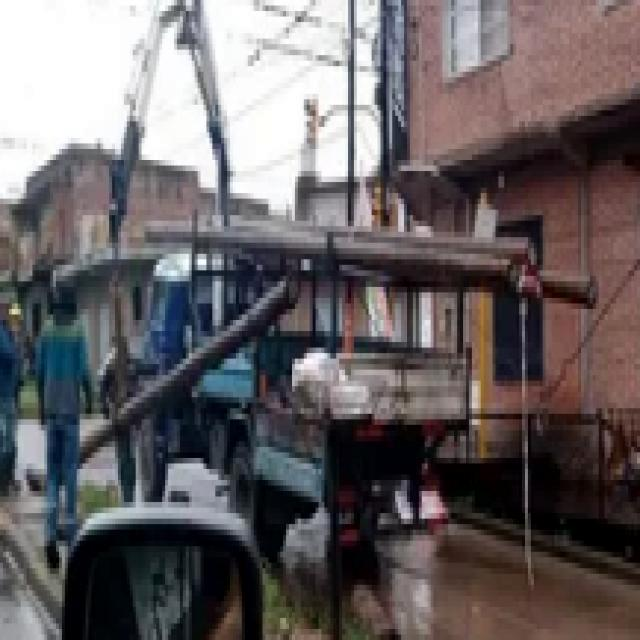Broken Pole: (32, 222, 599, 494)
